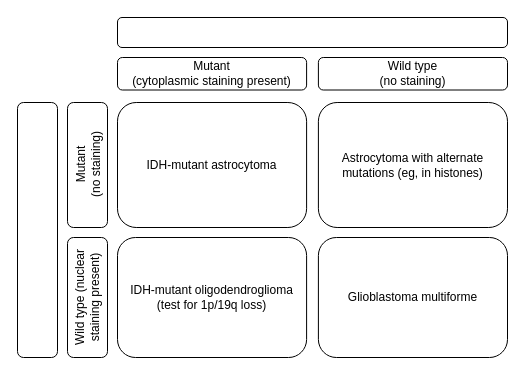
The diagram is 525 pixels wide and 375 high, and some of its shapes have lost their labels. The box of each missing label's shape, as (x1, y1, x2, y2) in pixels:
ATRX (alpha-thalassemia/mental retardation syndrome X-linked): (16, 102, 58, 358)
IDH (isocitrate dehydrogenase): (116, 16, 508, 48)
